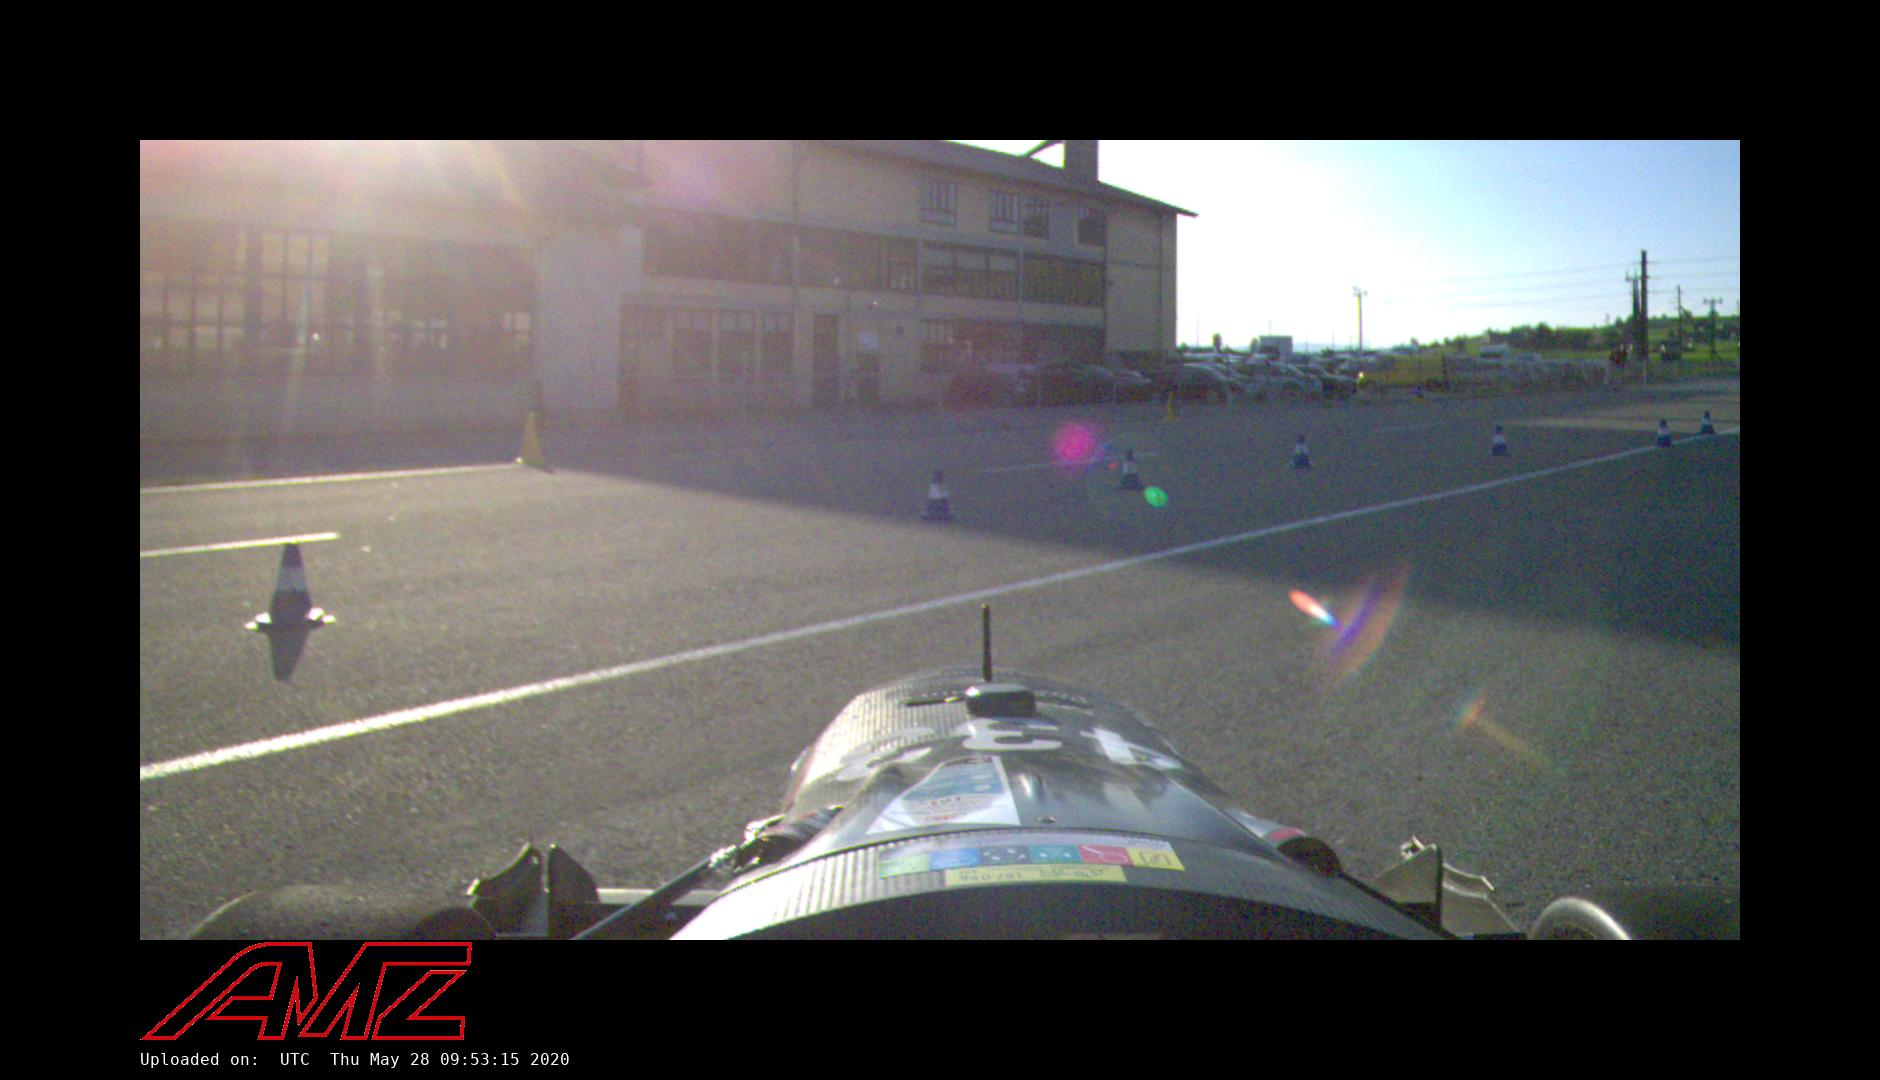blue_cone: (244, 540, 338, 634), (916, 469, 960, 522), (1114, 450, 1147, 492), (1285, 435, 1316, 471), (1486, 425, 1512, 460), (1651, 419, 1676, 450), (1697, 410, 1718, 439)
yellow_cone: (513, 412, 548, 467), (1159, 391, 1183, 425)
